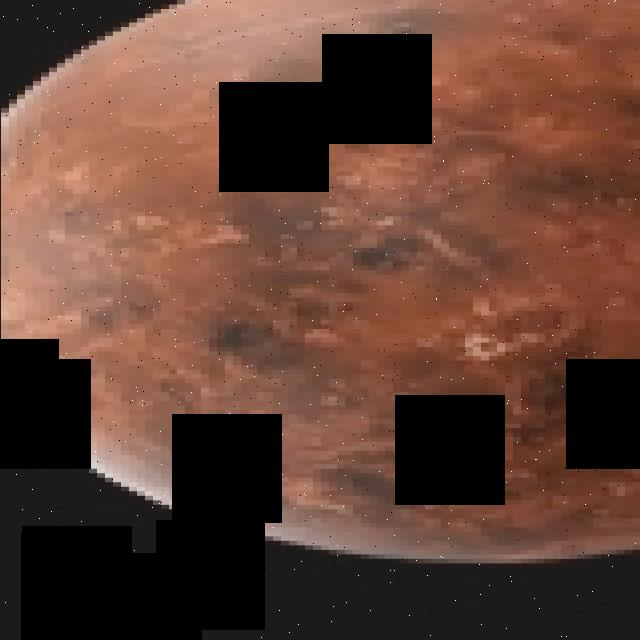Venus: (0, 0, 640, 563)
